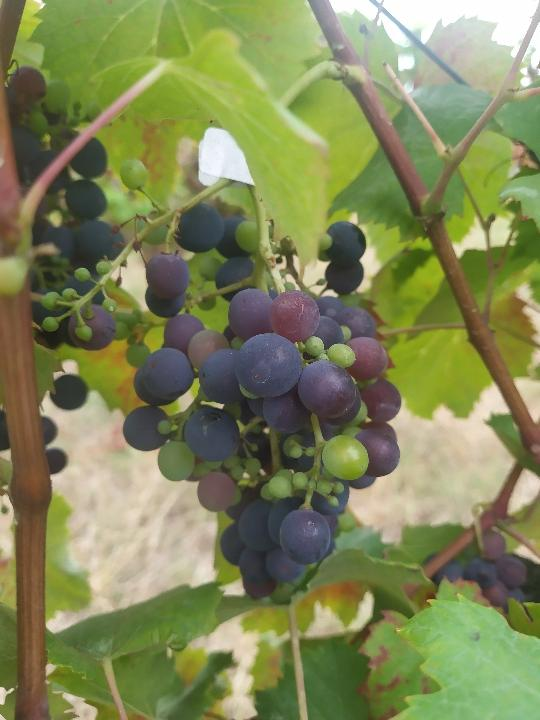grape: (121, 155, 403, 603)
